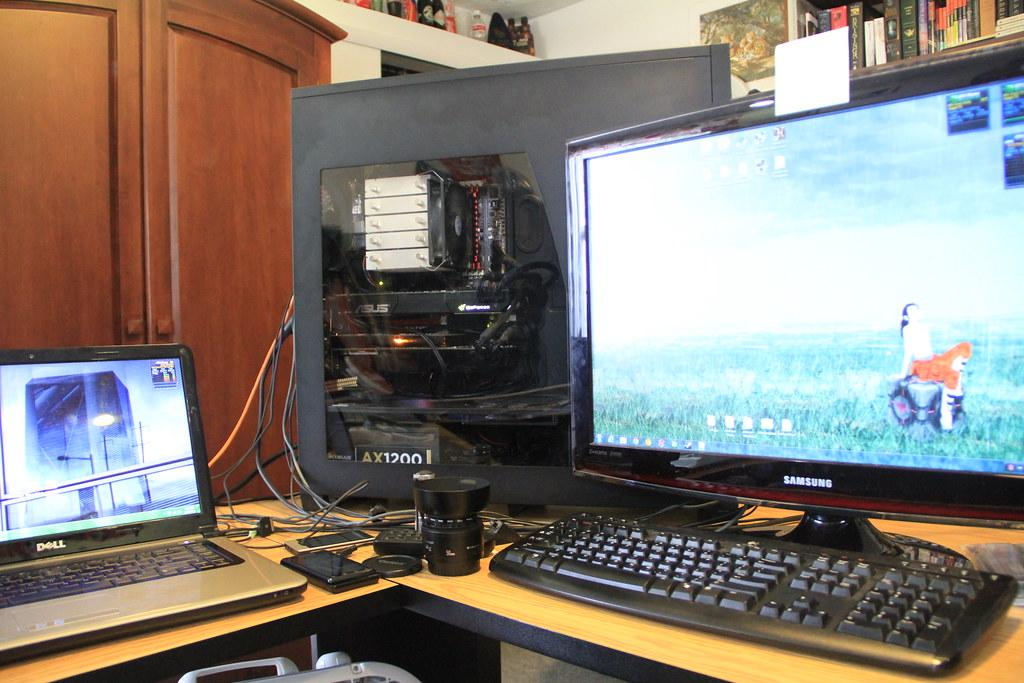computer: (565, 38, 1024, 562), (290, 43, 733, 526), (1, 321, 318, 681)
